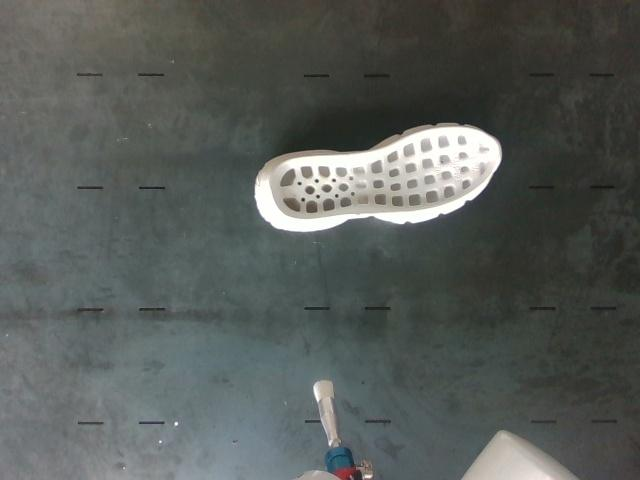shoes: (270, 127, 500, 219)
